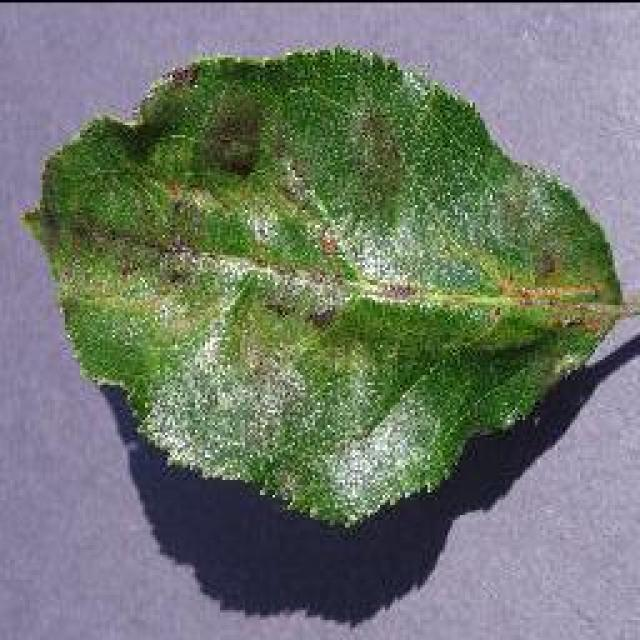apple scab disease: (20, 42, 638, 530)
